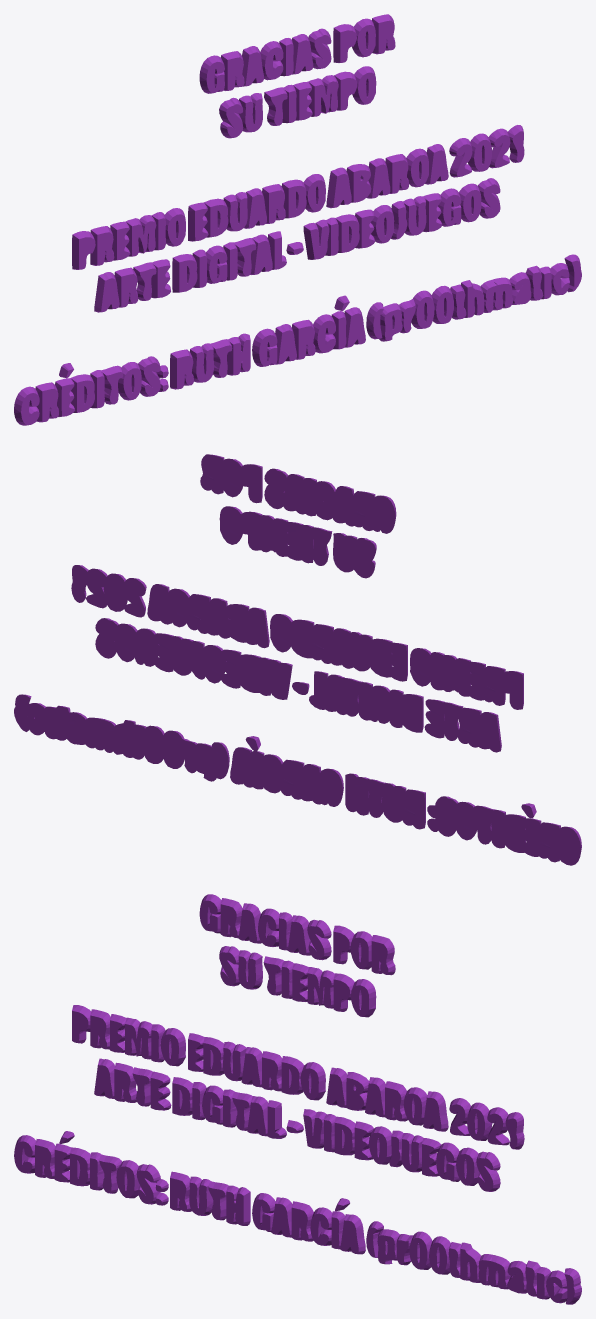
The model's file is end.fbx.
3 views of the same model, one above another, from view 1: azimuth 30°, elevation 25°; view 2: azimuth 150°, elevation 25°; view 3: azimuth 330°, elevation 25° (orthographic).
Parts seen in each view (by area): view 1: path4546; view 2: path4546; view 3: path4546.
Boxes of the visible parts, left/top/right/bottom form: path4546: left=14, top=14, right=581, bottom=425; path4546: left=14, top=454, right=581, bottom=865; path4546: left=14, top=894, right=581, bottom=1304.
Bounding box in the file's own units: 368 × 203 × 5.81.
